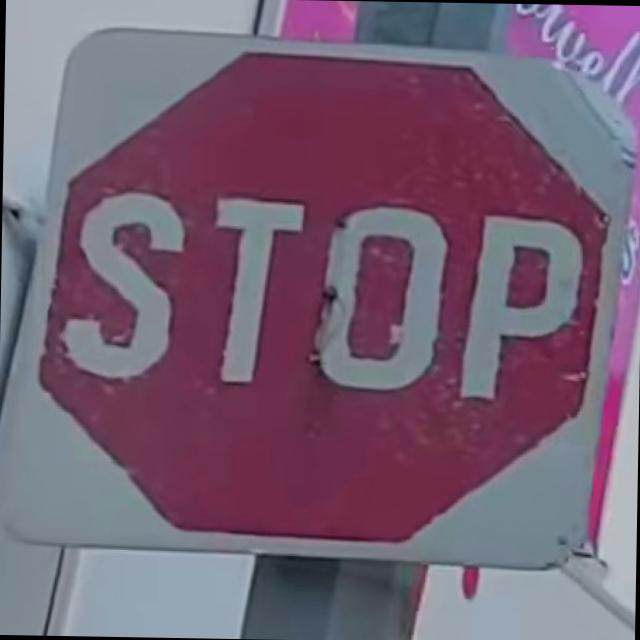mandatorystop_sign: (30, 34, 630, 554)
